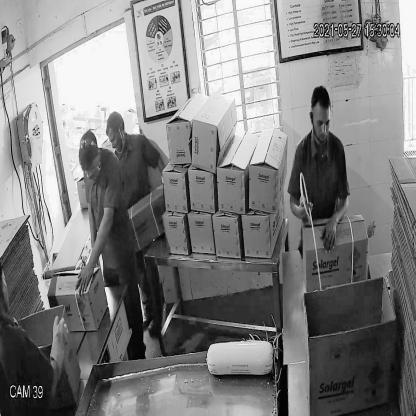no_goggles: (312, 112, 333, 132)
